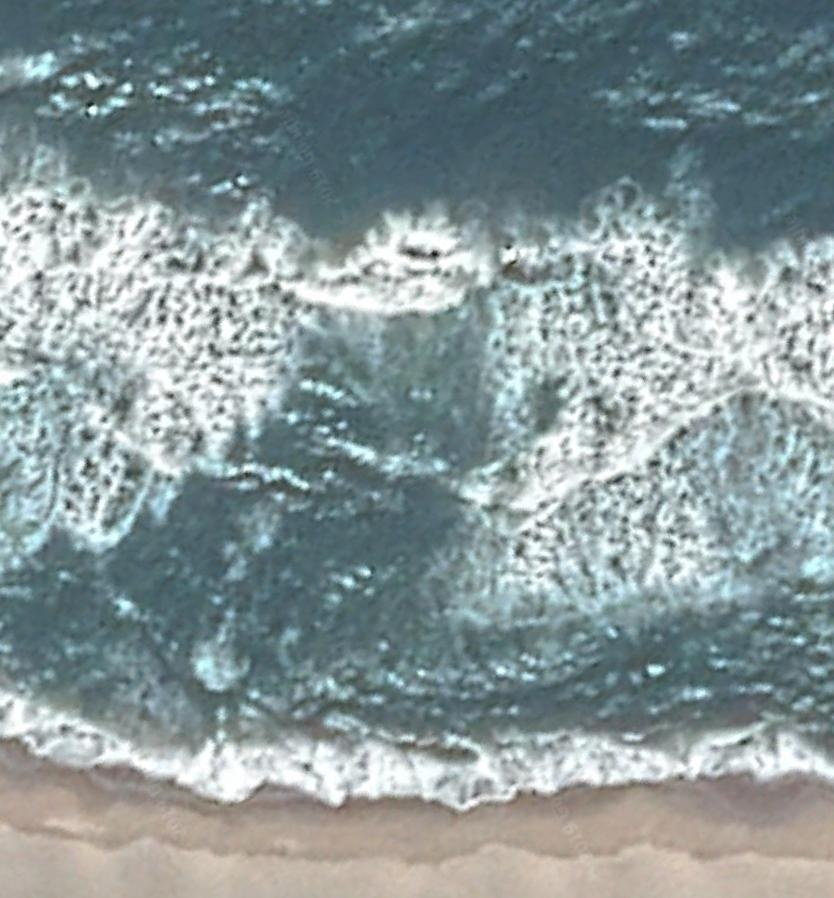rip_current: (114, 167, 591, 689)
